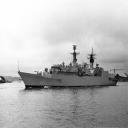Fragata: (18, 41, 120, 92)
